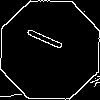I: (25, 25, 73, 57)
